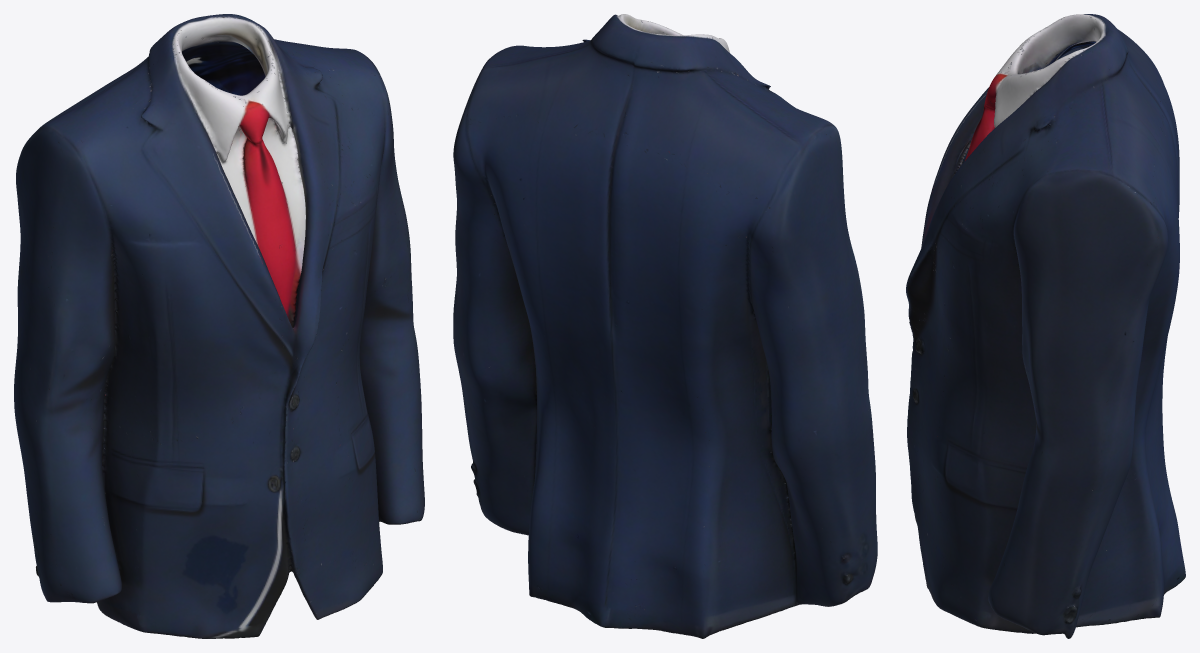
Rendered from Meshy_AI_Navy_Suit_with_Red_Ti_0329013621_texture.glb.
3 renders of one model, left to right at view 1: azimuth 30°, elevation 25°; view 2: azimuth 150°, elevation 25°; view 3: azimuth 270°, elevation 25°, orthographic. The views are drawn at different scales.
Bounding box in the file's own units: 1.48 × 2 × 0.9271.
Materials: 1 (1 with a texture image).
